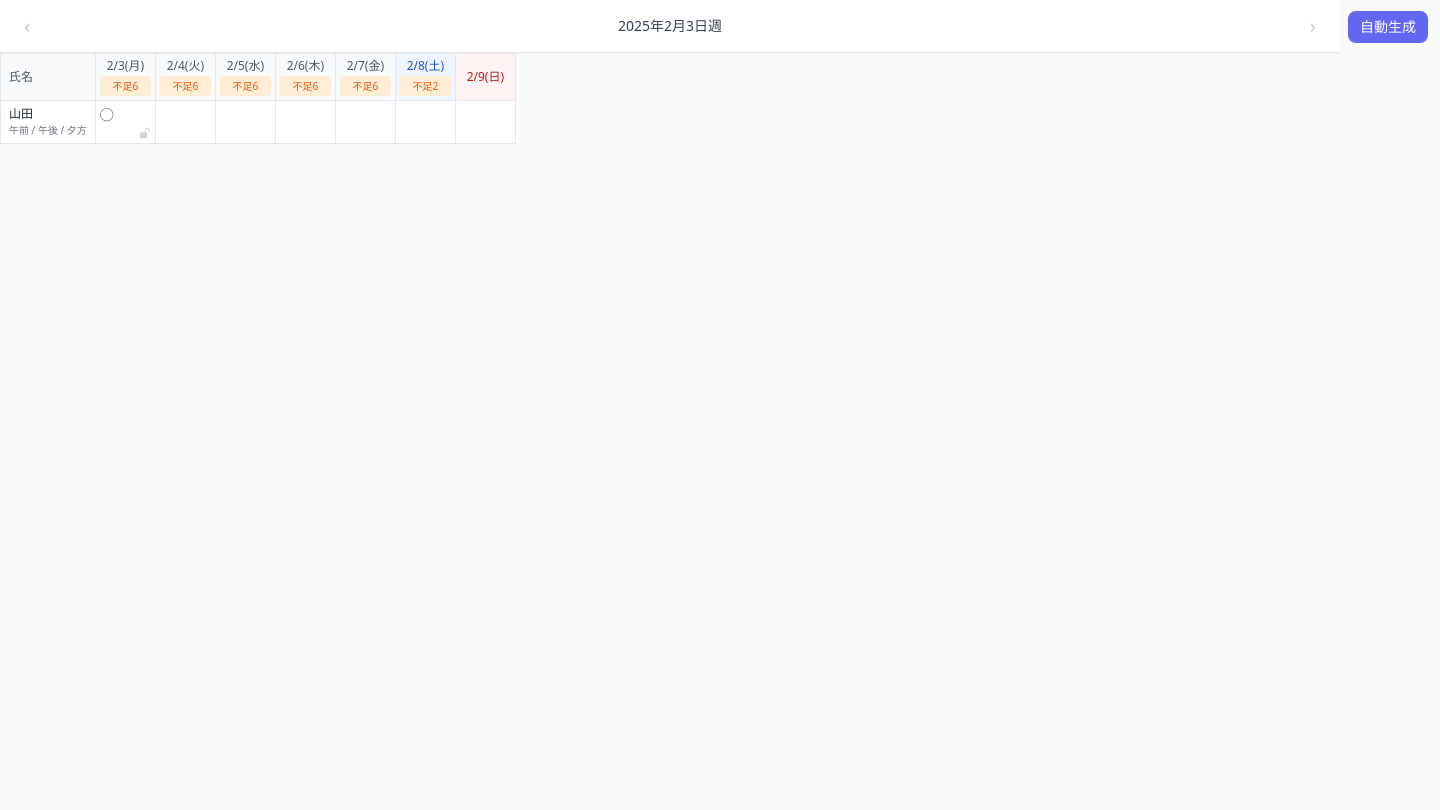
it: ShiftPage - 最適化統合 › 既存アサインありの場合（上書き確認） › 既存アサインがある場合は確認ダイアログ承認後にローディングが始まる
Click the button "自動生成".
click(1388, 26)  # box [1348, 10, 1428, 42]
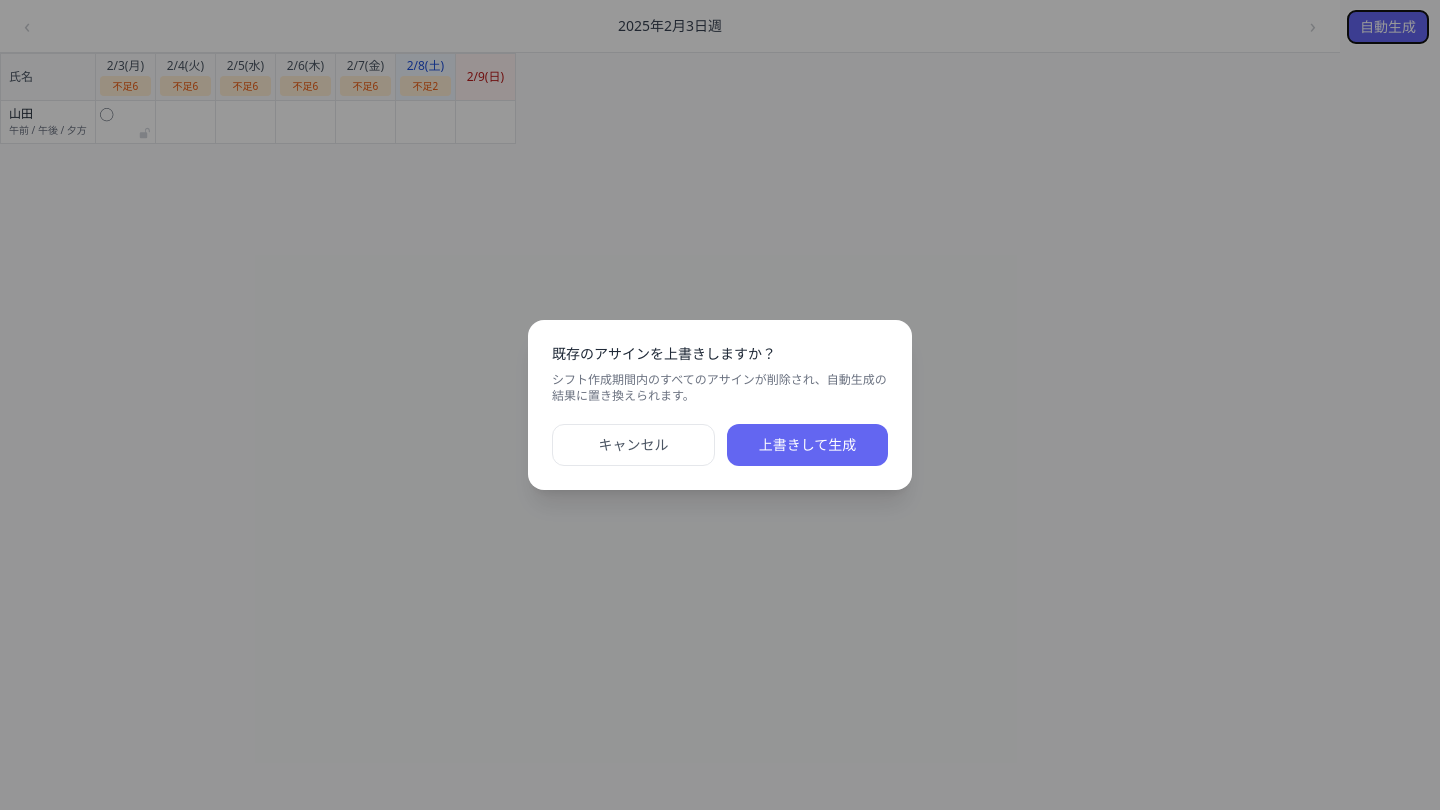
Expected: the dialog is shown
// 「上書きして生成」を押す
Click the button "上書きして生成".
click(808, 445)  # box [727, 424, 888, 466]
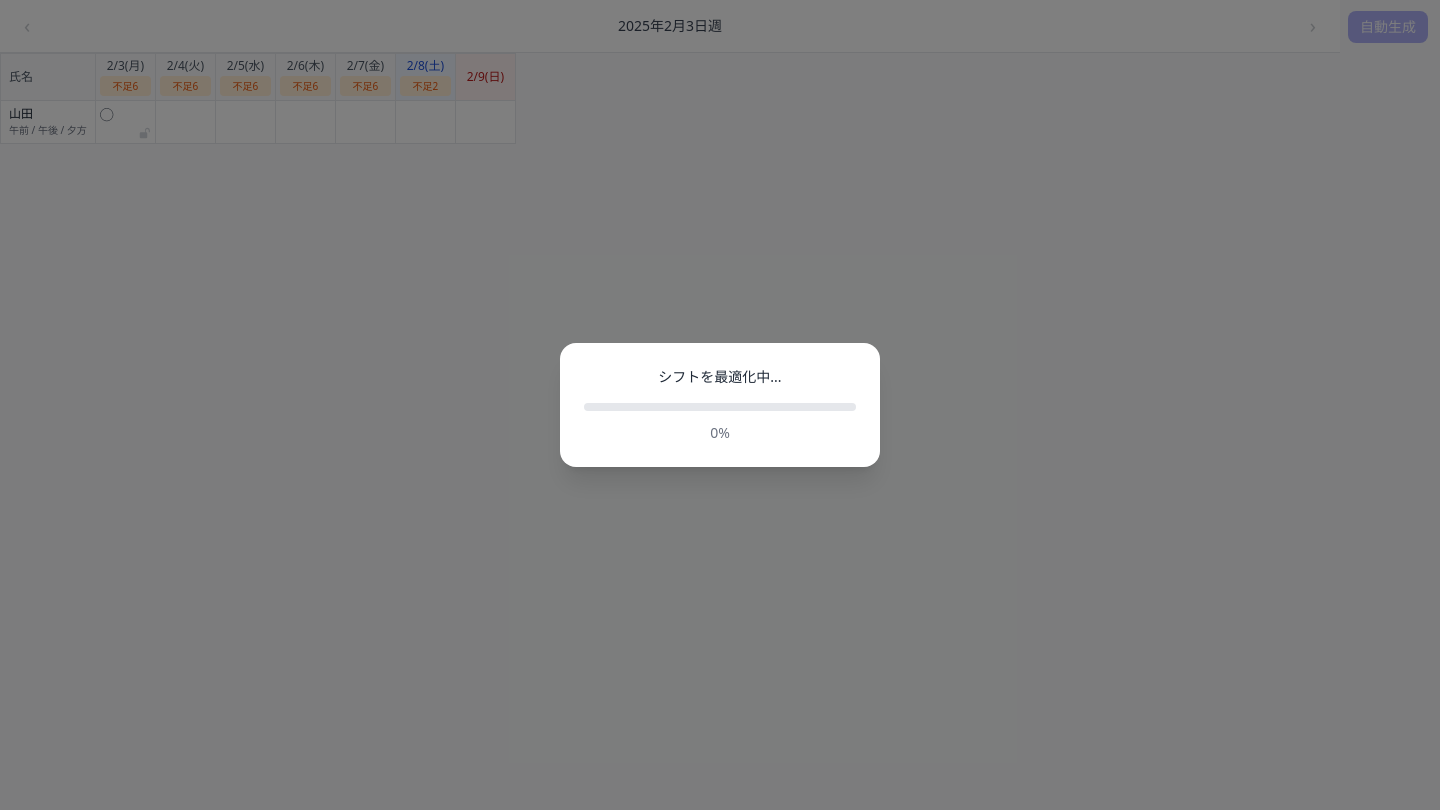
Expected: the message "シフトを最適化中... 0%" is shown
